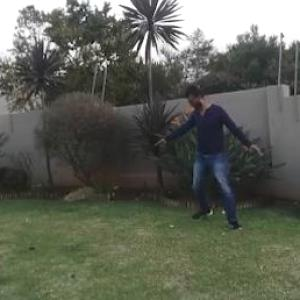land: (136, 74, 274, 244)
